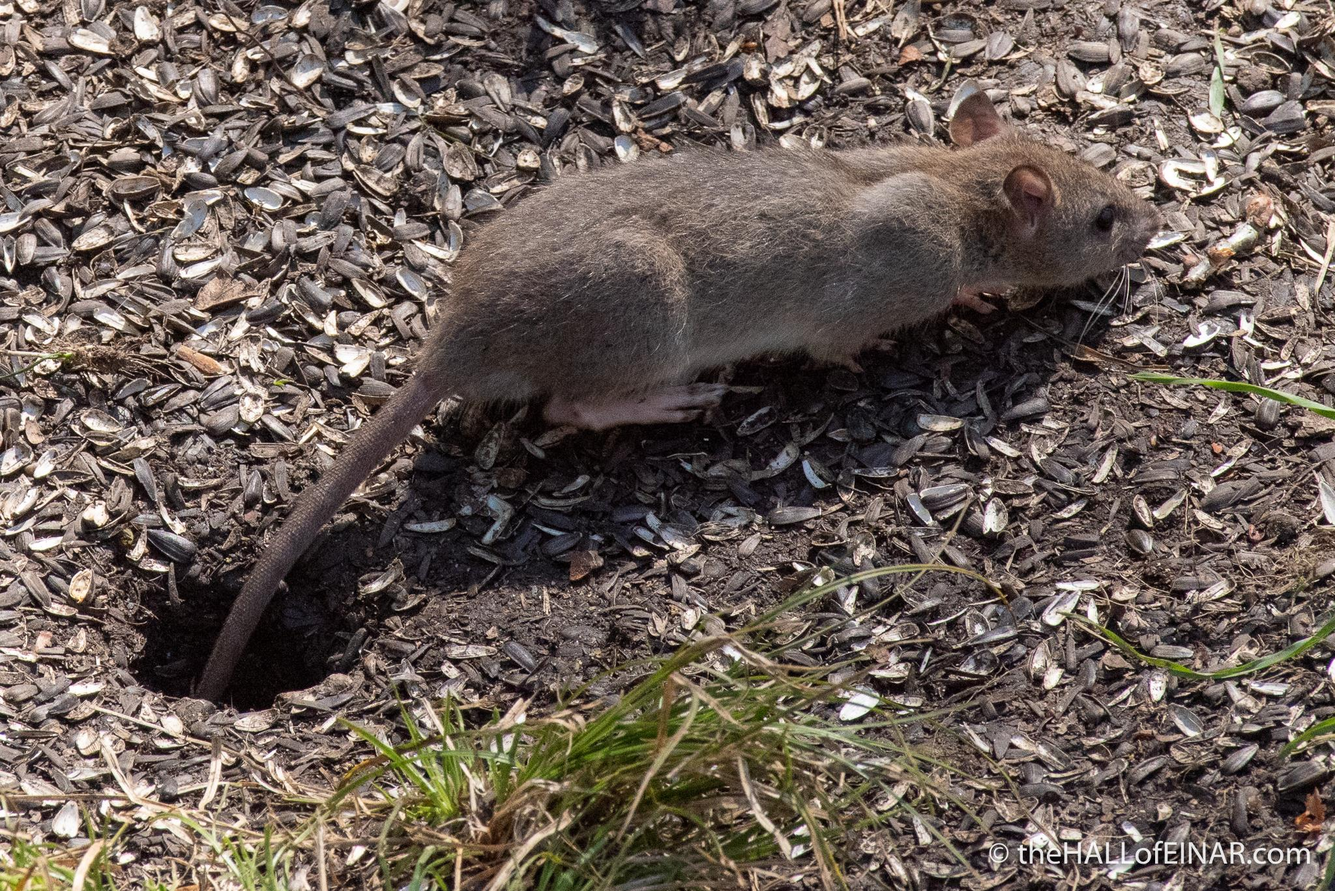rat: (194, 80, 1157, 695)
